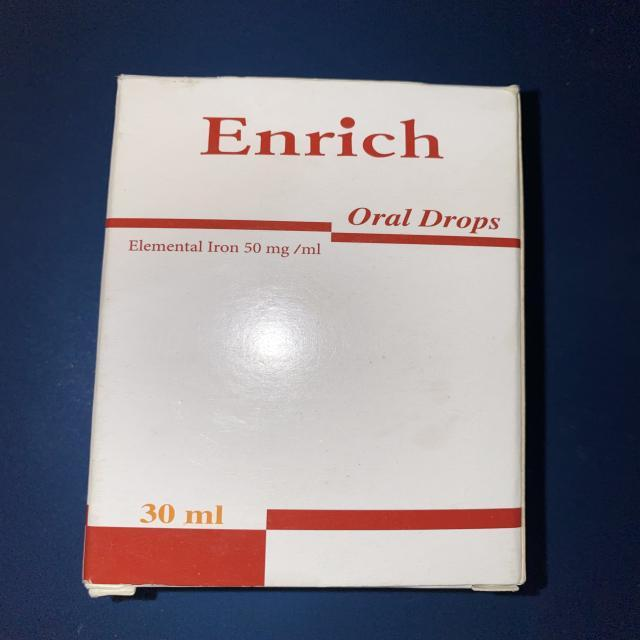Medicine Name: (196, 101, 442, 171)
